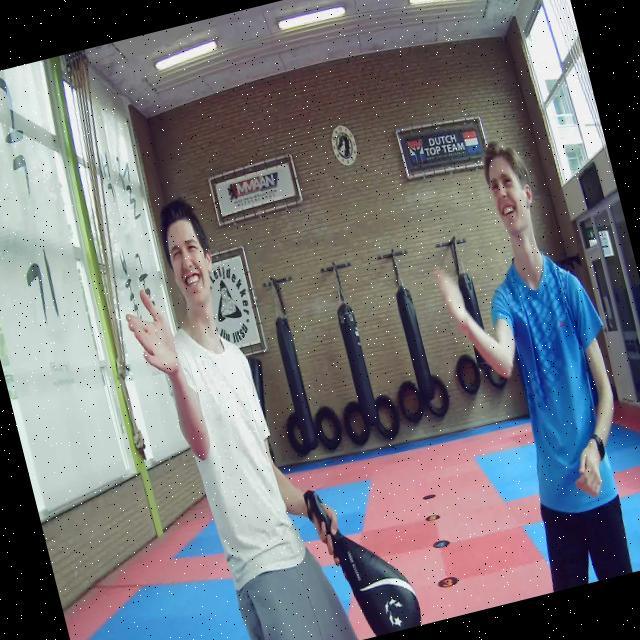paddle: (304, 485, 418, 629)
